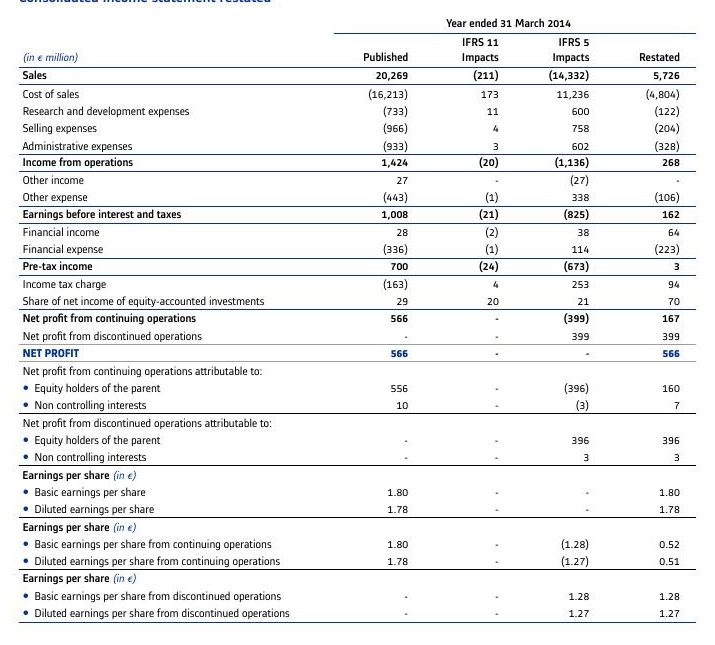table: (0, 0, 715, 645)
